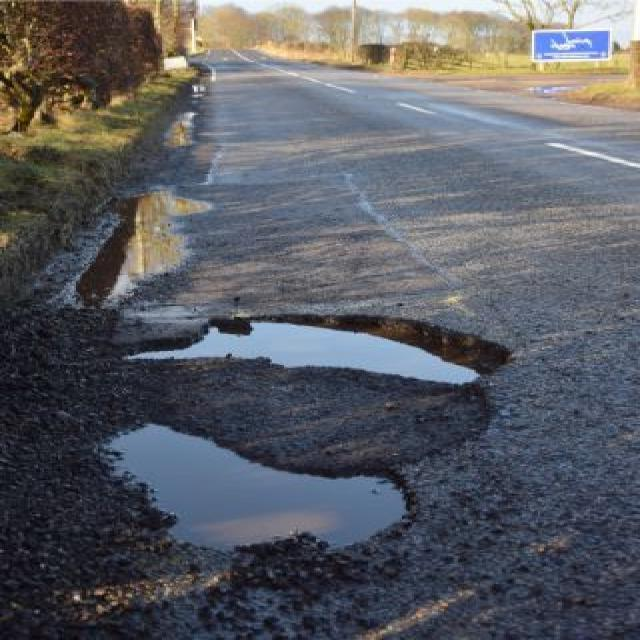Pothole: (98, 413, 422, 564), (116, 305, 526, 390)
